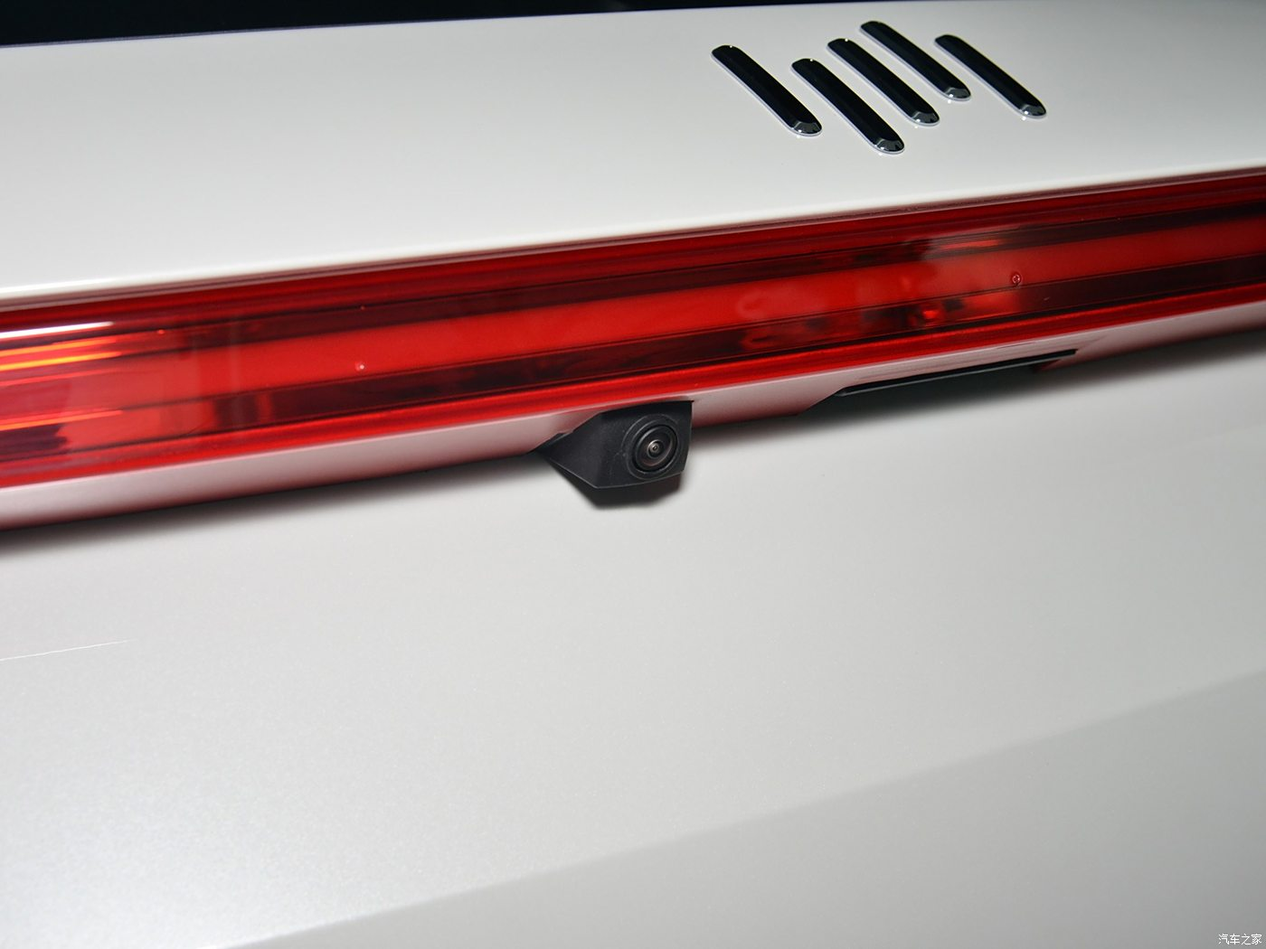WELTMEISTER: (713, 21, 1044, 151)
